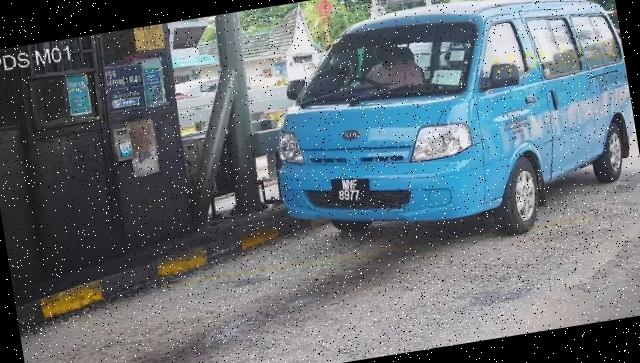License_Plate: (330, 172, 376, 210)
van: (257, 1, 640, 270)
